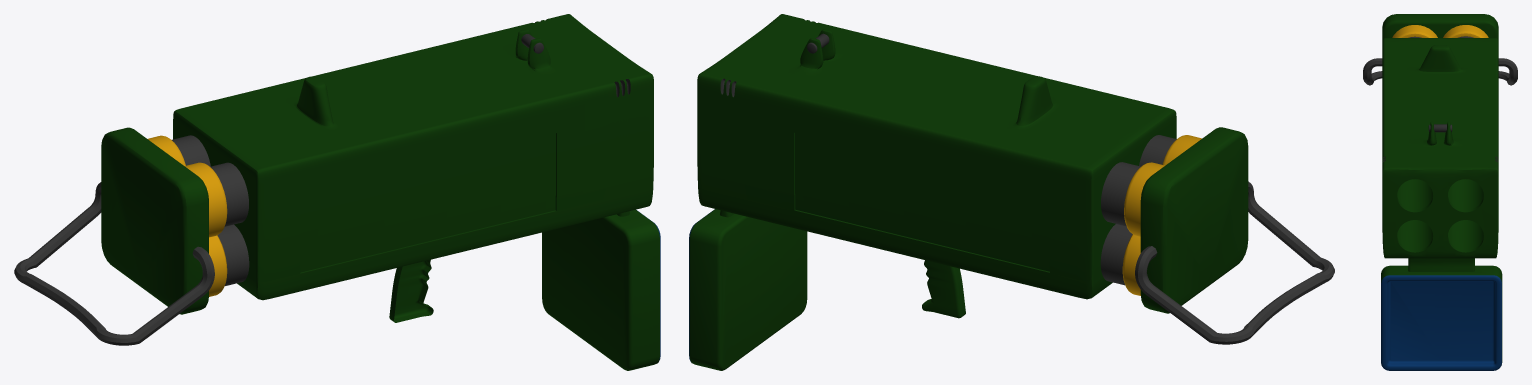
The model's file is incendiaryrocketlauncher.fbx.
The picture shows the model from 3 angles, left to right: view 1: azimuth 30°, elevation 25°; view 2: azimuth 150°, elevation 25°; view 3: azimuth 270°, elevation 25°; orthographic projection. The views are drawn at different scales.
Visible parts, largest first — view 1: Cube.024, Cube.027; view 2: Cube.024, Cube.027; view 3: Cube.024, Cube.027.
Part boxes in pixels (x1,y1,x2,y2): Cube.024: (14,14,653,345); Cube.027: (542,209,660,370); Cube.024: (697,14,1334,344); Cube.027: (689,209,807,370); Cube.024: (1363,14,1517,258); Cube.027: (1381,258,1502,370).
Bounding box in the file's own units: 427 × 239 × 150.
Materials: 1 (1 with a texture image).
